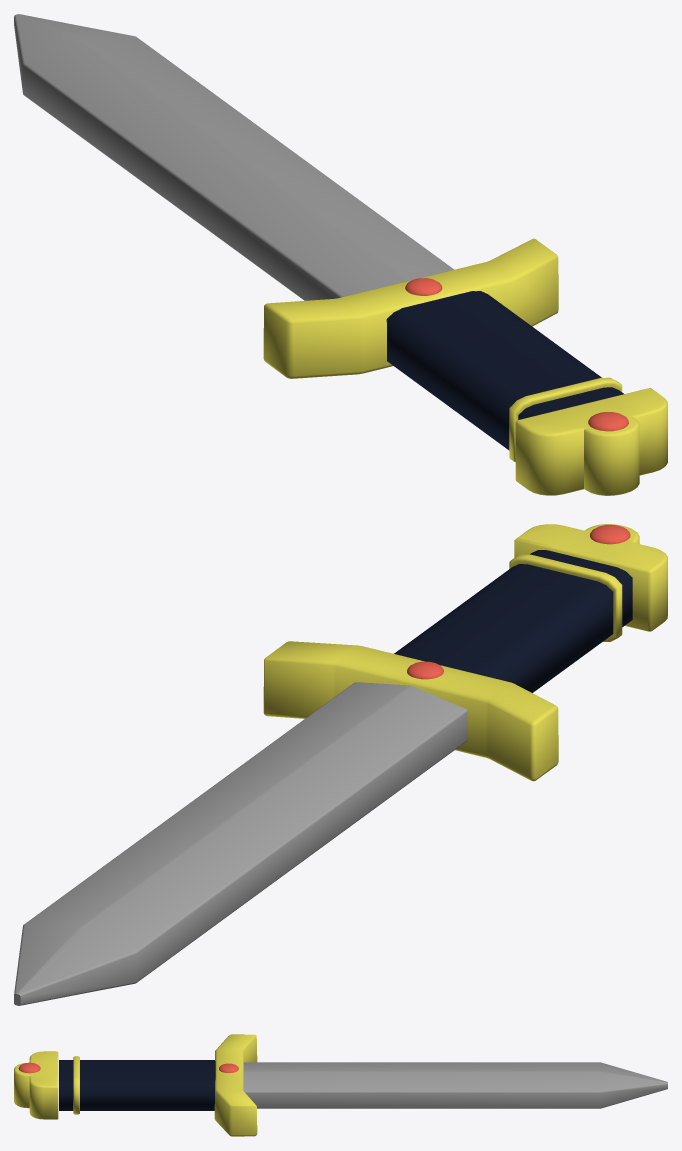
Rendered from Sword3.fbx.
3 renders of one model, top to bottom at view 1: azimuth 30°, elevation 25°; view 2: azimuth 150°, elevation 25°; view 3: azimuth 270°, elevation 25°, orthographic. The views are drawn at different scales.
Visible parts, largest first — view 1: Sword_3; view 2: Sword_3; view 3: Sword_3.
Boxes of the visible parts, x1,y1,x2,y2 form: Sword_3: (14, 14, 667, 495); Sword_3: (14, 524, 667, 1005); Sword_3: (14, 1034, 667, 1136).
Size of the model in its own units: 1.69 by 0.4453 by 6.49.
